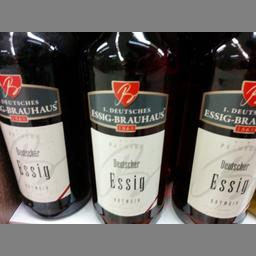vinegar: (82, 31, 174, 223), (0, 31, 90, 222), (180, 31, 254, 223)
